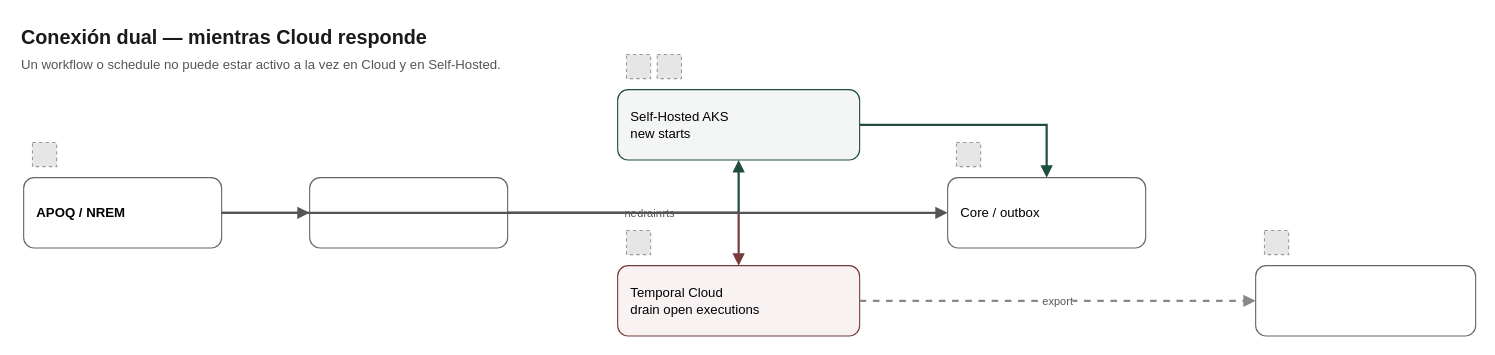
Some shapes in this 1495 by 355 pixel diagram are drawn without their labels. Grey dashed boxes stand in for pictures. The centre of each missing label's shape, as x and y in pixels:
"Blob del Banco periodic export" goes at (x=1365, y=300).
"Destination flag" goes at (x=408, y=212).
